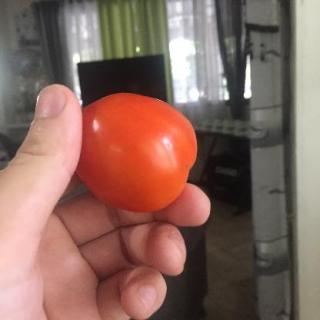Tomat: (58, 85, 216, 217)
